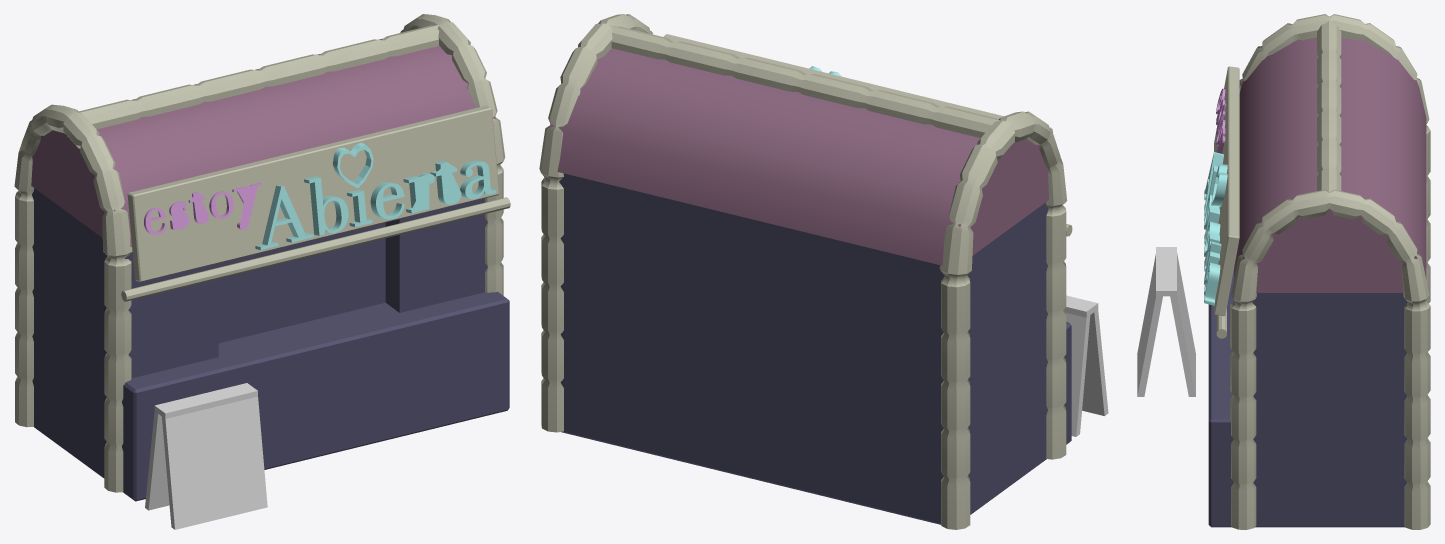
Rendered from Tienda de Sucubo.fbx.
3 renders of one model, left to right at view 1: azimuth 30°, elevation 25°; view 2: azimuth 150°, elevation 25°; view 3: azimuth 270°, elevation 25°, orthographic. The views are drawn at different scales.
Visible parts, largest first — view 1: Esc_Tienda:polySurface4; view 2: Esc_Tienda:polySurface4; view 3: Esc_Tienda:polySurface4.
Boxes of the visible parts, x1,y1,x2,y2 form: Esc_Tienda:polySurface4: (14,14,510,529); Esc_Tienda:polySurface4: (539,14,1108,529); Esc_Tienda:polySurface4: (1137,14,1430,529).
Size of the model in its own units: 890 by 742 by 586.
